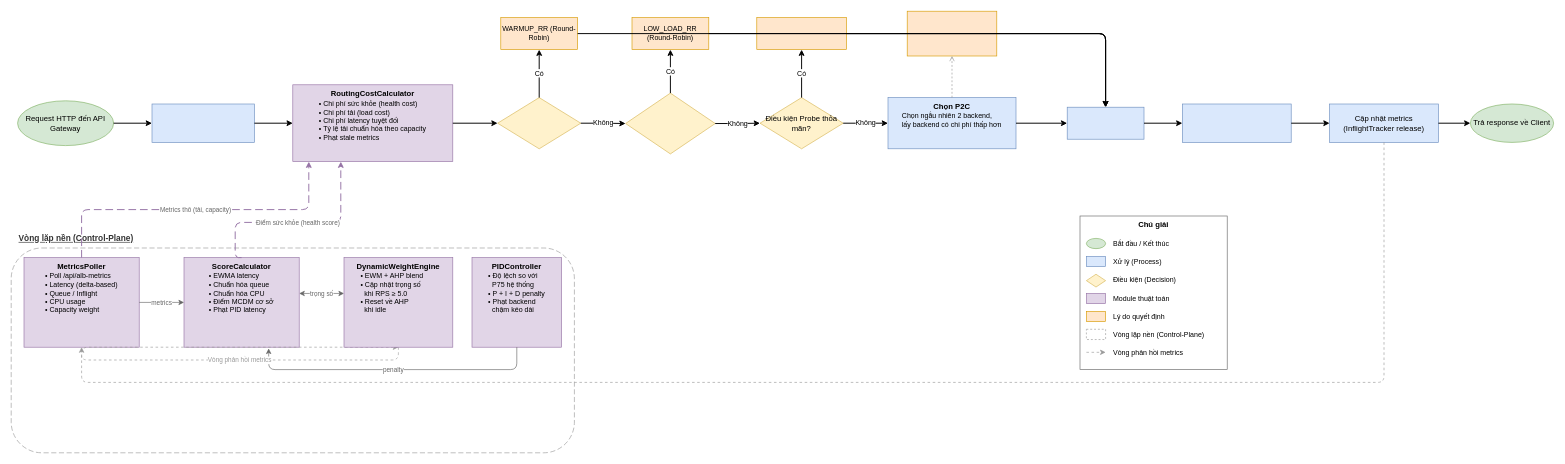
The diagram is 1565 pixels wide and 464 high, and some of its shapes have lost their labels. The centre of each missing label's shape, as x and y in pixels:
"Backend được chọn" goes at pixel 1105 123.
"Giai đoạn khởi động?" goes at pixel 539 123.
"Lý do quyết định: HEALTH_DOMINANT | LOAD_DOMINANT | NORMAL_P2C" goes at pixel 952 33.
"PROBE_RECOVERY (Backend yếu nhất)" goes at pixel 801 33.
"Tải thấp & sức khỏe đồng đều?" goes at pixel 670 123.
"Định tuyến request đến backend đã chọn" goes at pixel 1236 122.
"Đọc danh sách instance từ Eureka" goes at pixel 202 122.
